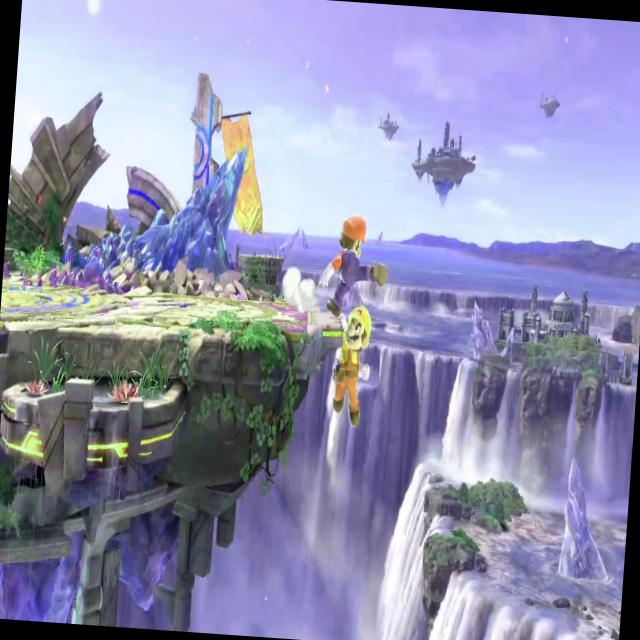Mario-FT: (315, 204, 398, 326)
Mario-LH: (324, 291, 380, 439)
